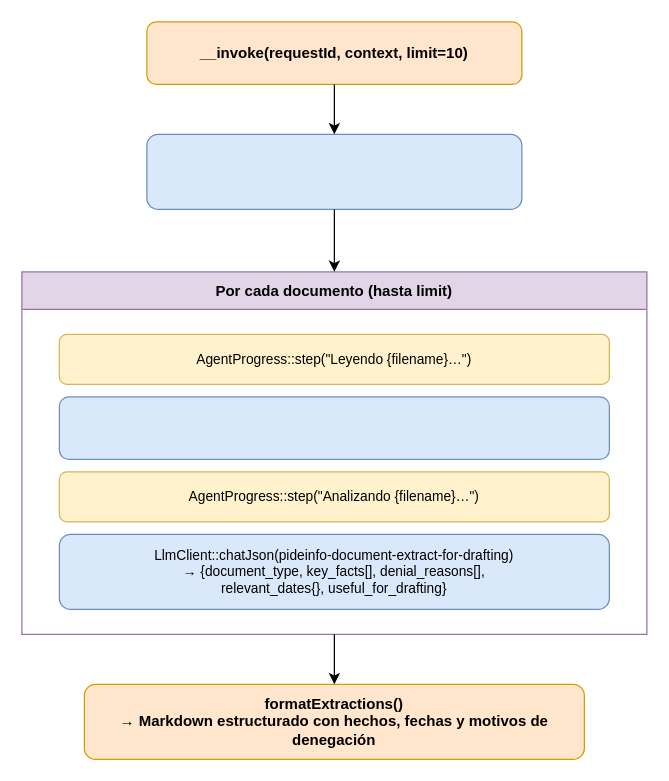
The diagram is 669 pixels wide and 781 high, and some of its shapes have lost their labels. Each missing label, with the centre of its shape:
"AccessRequestRepository::find(uuid) + assertOwnership(user)" belongs at [334,171].
"DocumentContentReader::read(doc, 'text') → texto extraído (PDF / text/plain)" belongs at [333,427].
